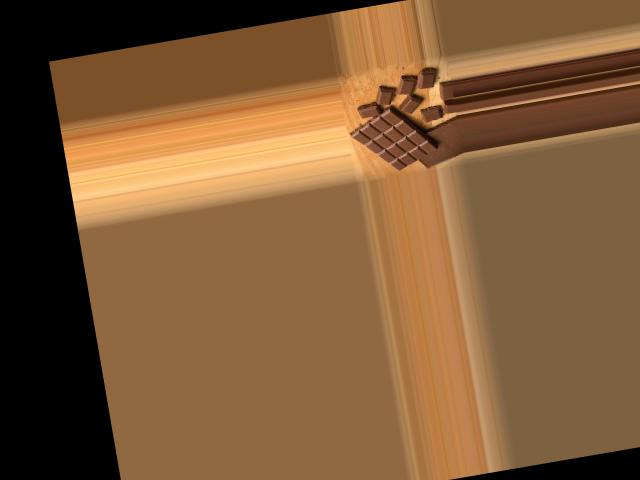chocolate: (348, 96, 440, 177)
